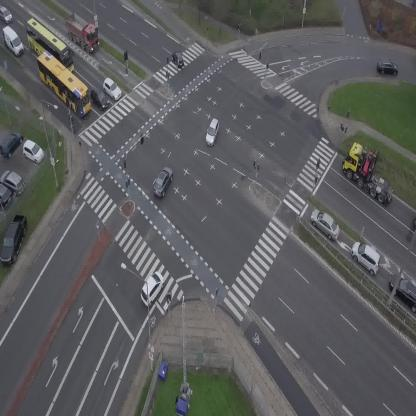bicycle: (68, 115, 75, 130)
bus: (28, 47, 100, 118), (15, 16, 84, 78)
car: (346, 238, 388, 278), (305, 205, 345, 242), (135, 268, 169, 309), (149, 164, 177, 199), (85, 85, 113, 112), (99, 76, 125, 101), (203, 117, 222, 147), (376, 58, 399, 76), (170, 49, 185, 69), (0, 5, 15, 25)
lorry: (335, 136, 399, 215), (58, 10, 107, 56), (0, 24, 28, 59), (414, 217, 416, 228)
